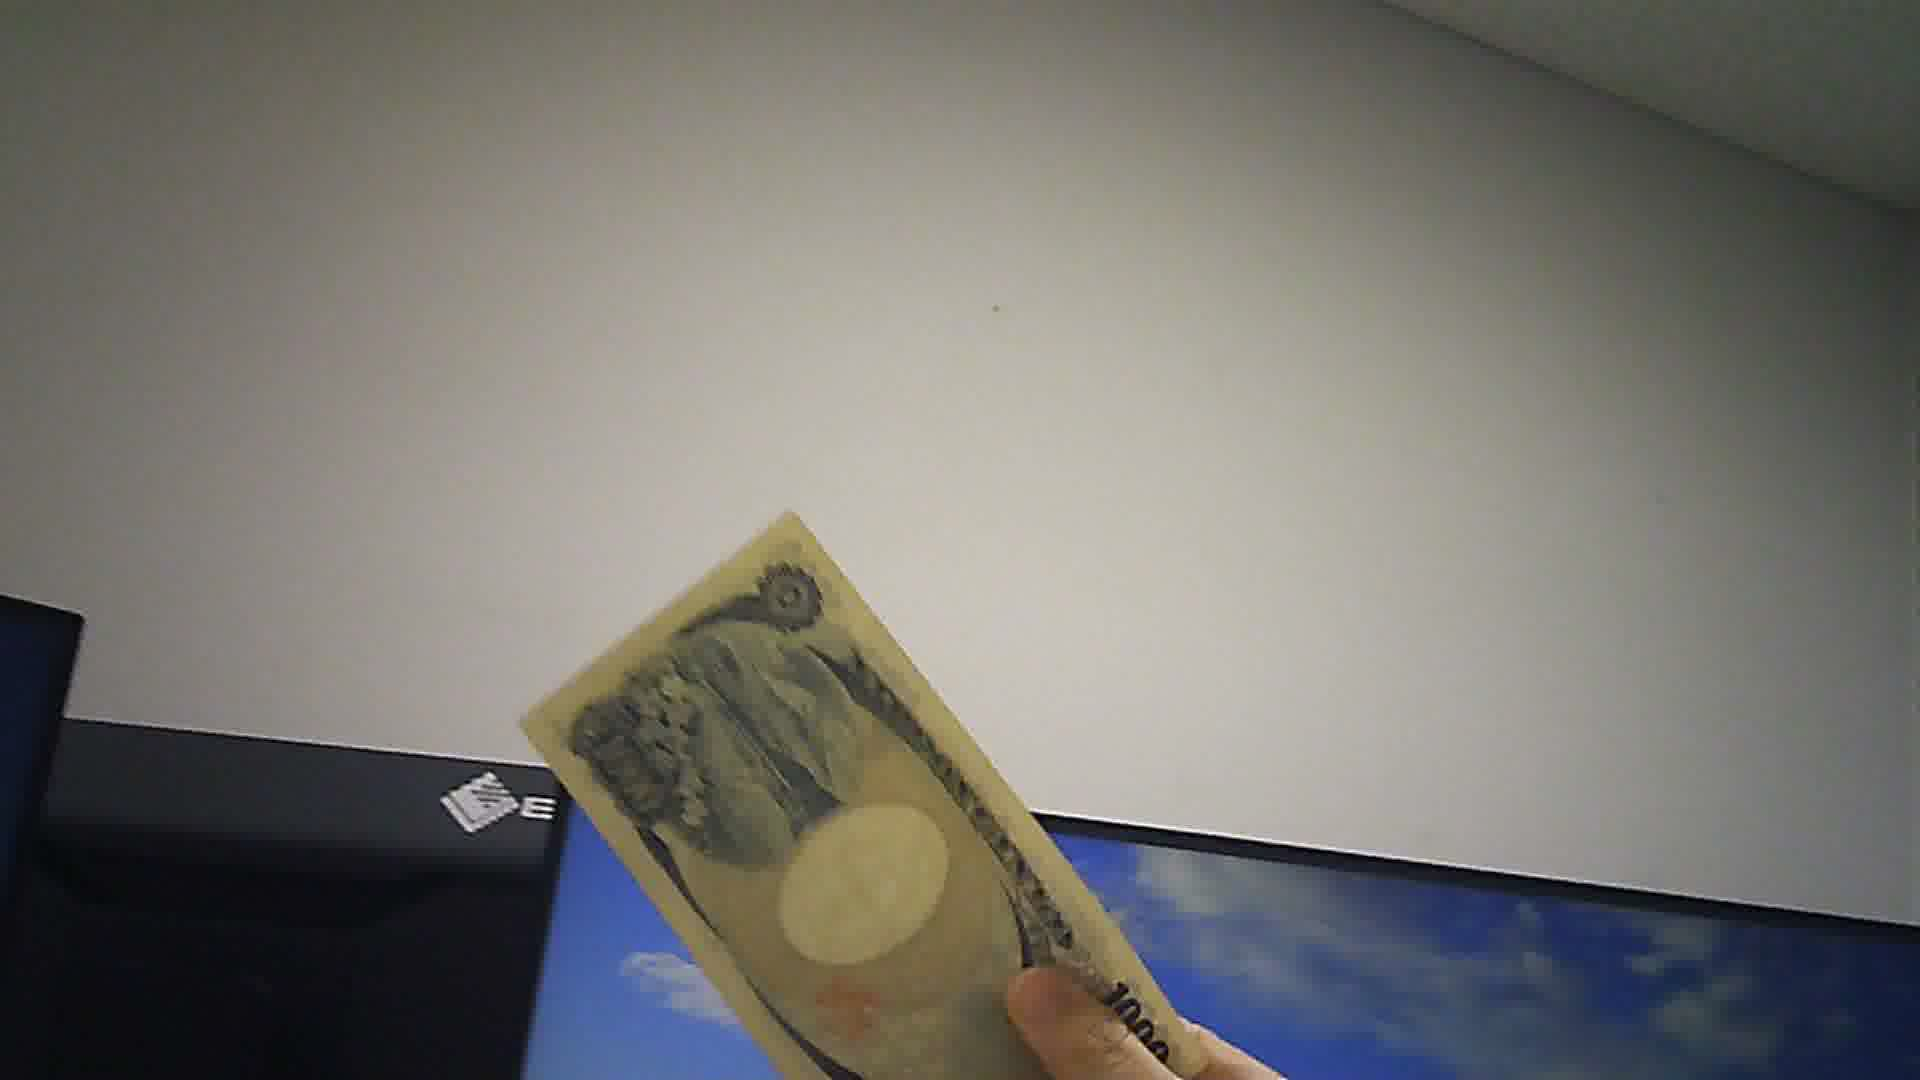1,000 Yen: (516, 505, 1197, 1079)
